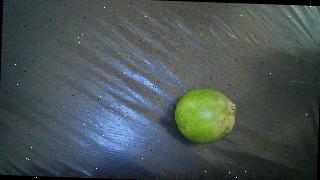DESECHO: (175, 87, 237, 144)
